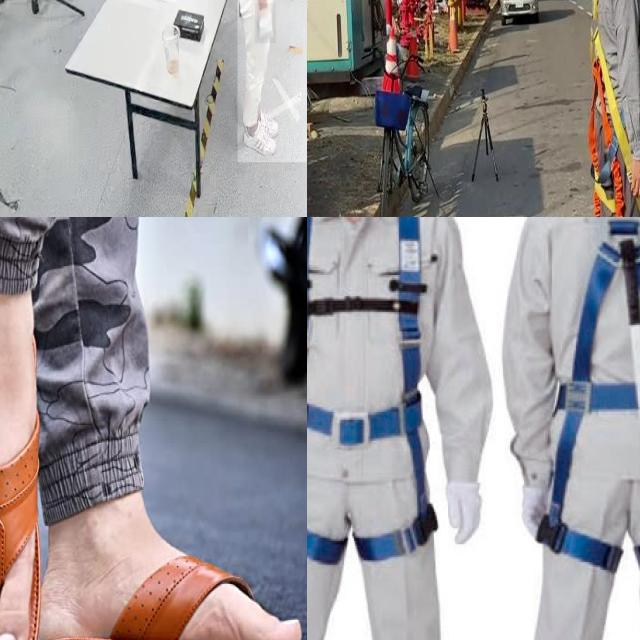Harness: (307, 217, 438, 566), (540, 217, 640, 573), (589, 29, 640, 217)
Sandals: (45, 500, 307, 640), (0, 267, 40, 640)
hand_glove: (255, 3, 277, 44)
person: (237, 0, 307, 163)
shoes: (242, 118, 278, 158), (250, 108, 280, 137)
